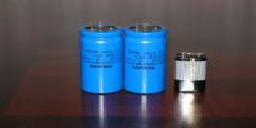Electrolytic-Capacitor: (75, 21, 124, 95), (174, 47, 212, 103)
